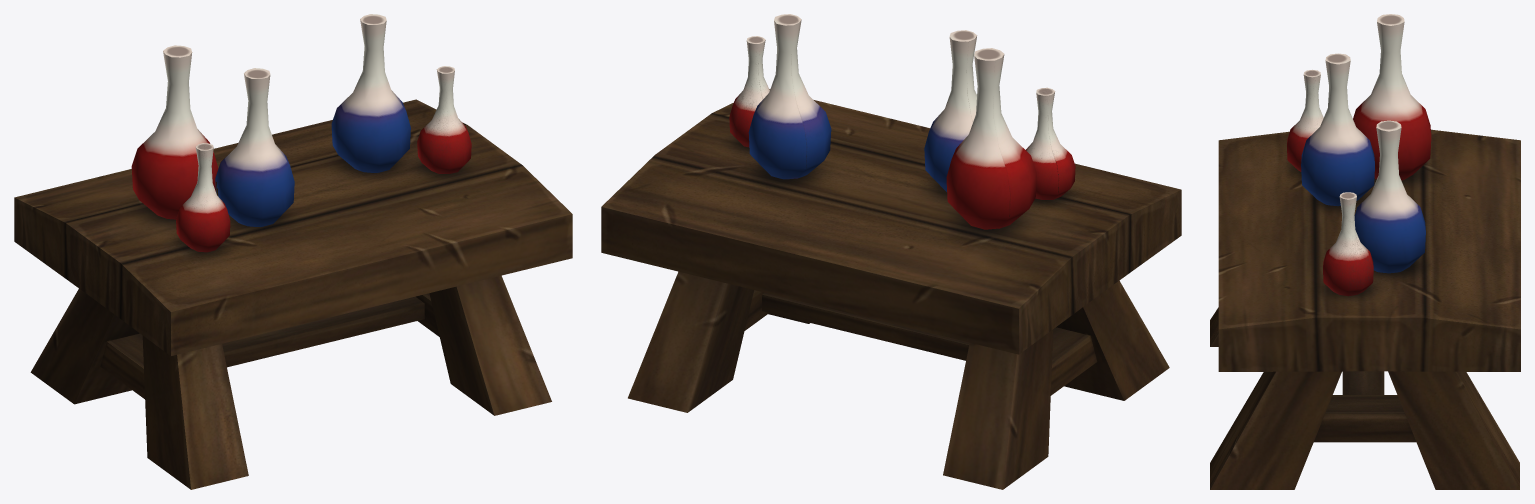
Rendered from modelTablePotion.fbx.
3 views of the same model, side by side, from view 1: azimuth 30°, elevation 25°; view 2: azimuth 150°, elevation 25°; view 3: azimuth 270°, elevation 25° (orthographic). The views are drawn at different scales.
Parts seen in each view (by area): view 1: modelTablePotion; view 2: modelTablePotion; view 3: modelTablePotion.
Part boxes in pixels (<box>): modelTablePotion: <box>14,14,572,489</box>; modelTablePotion: <box>601,14,1181,489</box>; modelTablePotion: <box>1210,14,1520,489</box>.
Size of the model in its own units: 20.86 by 17.38 by 14.48.
